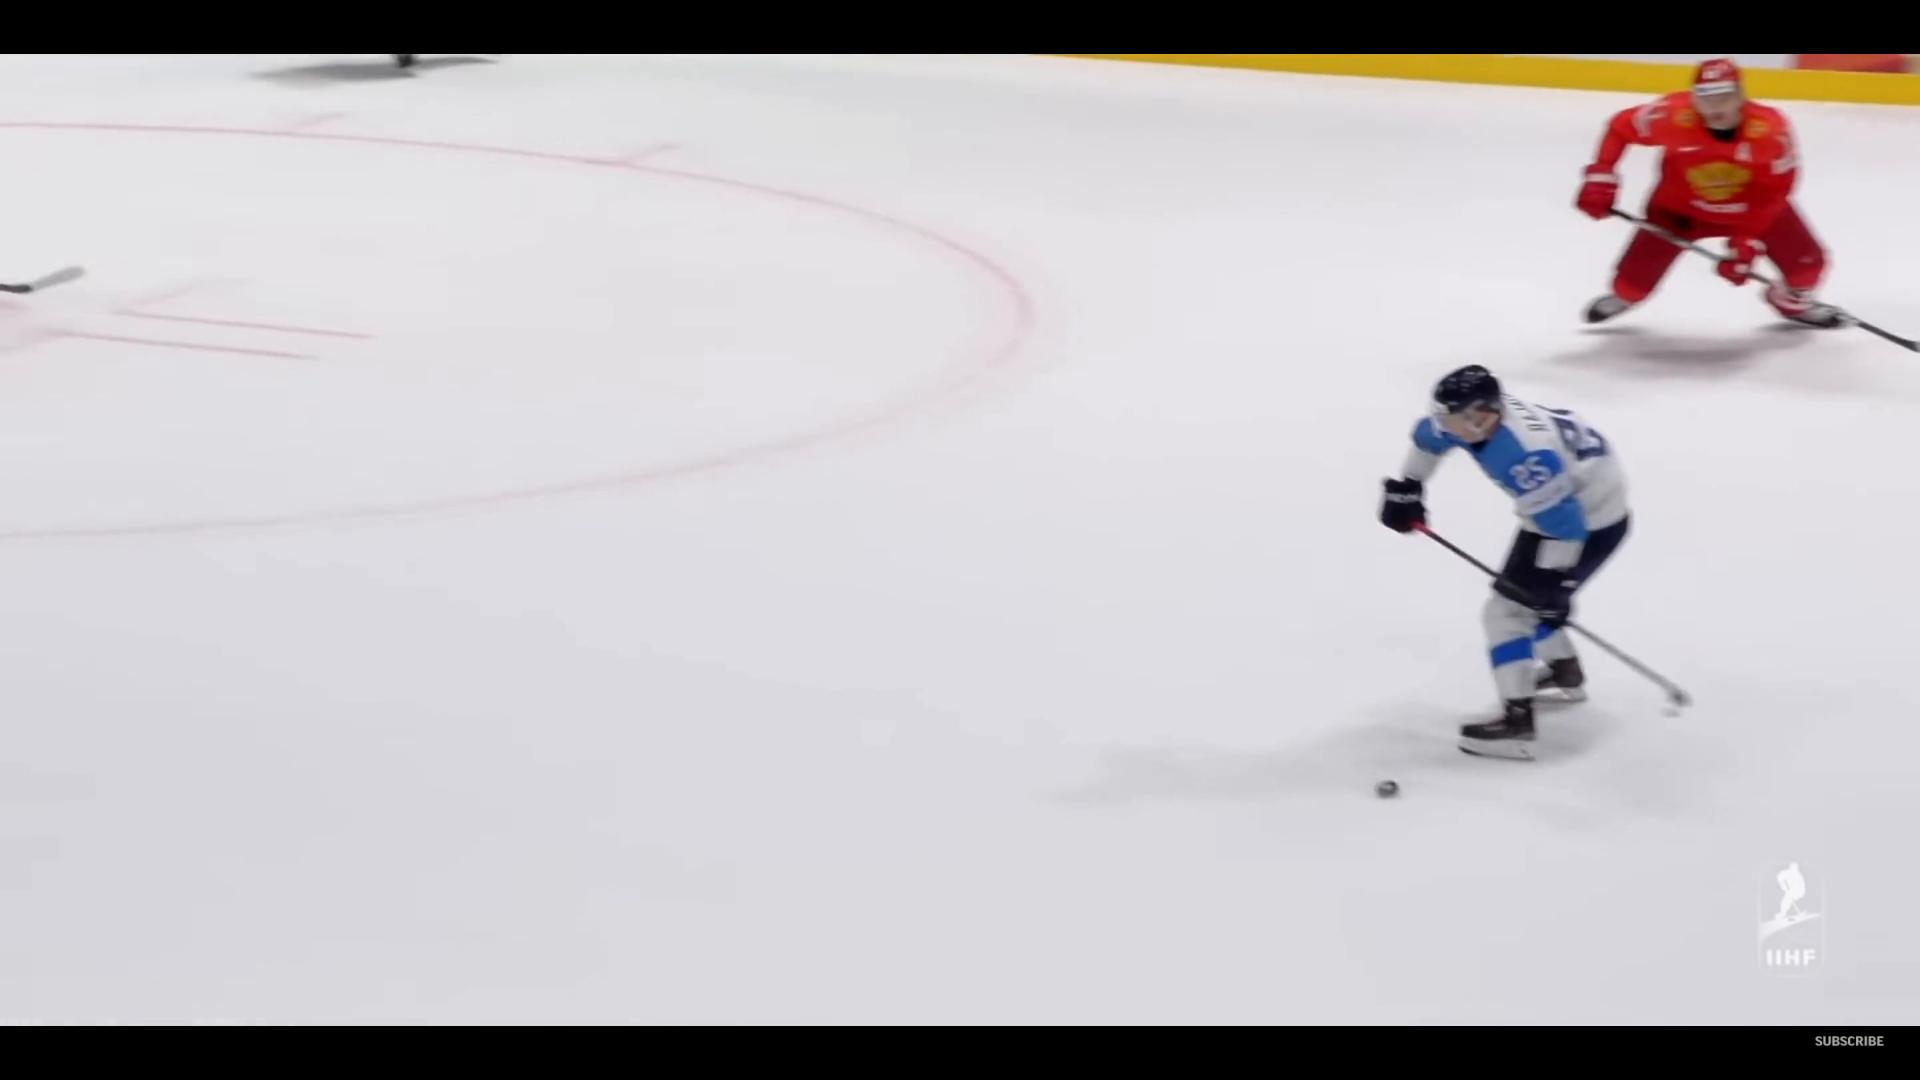puck: (1373, 781, 1398, 798)
